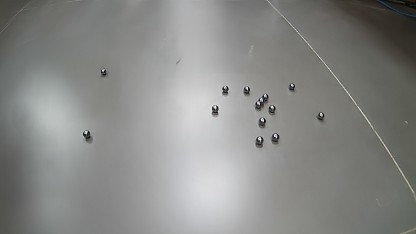ironball: (82, 130, 91, 138), (221, 85, 229, 93), (258, 117, 266, 125), (211, 105, 219, 113), (268, 104, 275, 113), (272, 132, 279, 141), (256, 136, 263, 144), (288, 82, 295, 90), (261, 93, 268, 101), (317, 112, 324, 120), (243, 86, 250, 93), (258, 97, 264, 105), (100, 68, 106, 75), (255, 101, 261, 108)
